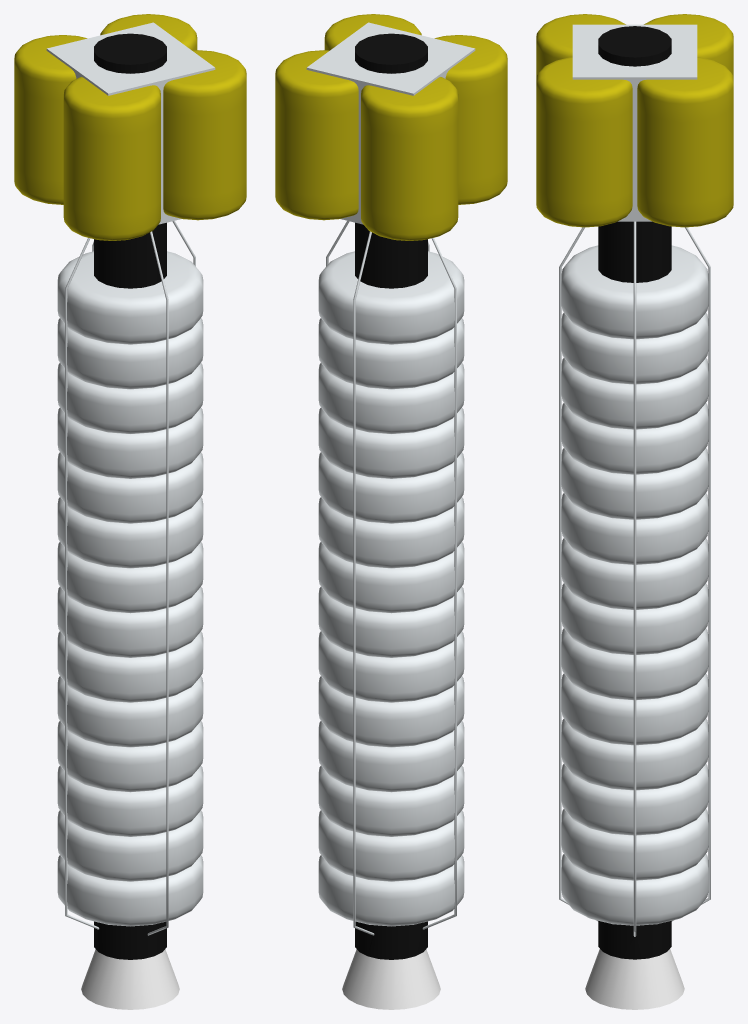
File: antimatter.fbx
3 renders of one model, left to right at view 1: azimuth 30°, elevation 25°; view 2: azimuth 150°, elevation 25°; view 3: azimuth 270°, elevation 25°, orthographic.
Parts seen in each view (by area): view 1: antimatter2, antimatter1, antimatter; view 2: antimatter2, antimatter1, antimatter; view 3: antimatter2, antimatter1, antimatter.
Boxes of the visible parts, x1,y1,x2,y2 form: antimatter2: (14,14,246,926); antimatter1: (65,33,195,1009); antimatter: (46,22,215,224); antimatter2: (275,14,507,926); antimatter1: (326,33,456,1009); antimatter: (306,22,475,224); antimatter2: (536,14,733,925); antimatter1: (559,26,710,1009); antimatter: (572,24,697,221).
Bounding box in the file's own units: 40 × 210 × 39.7.
